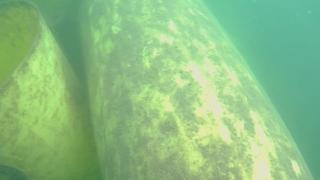pipe: (76, 1, 315, 180), (1, 1, 101, 179)
